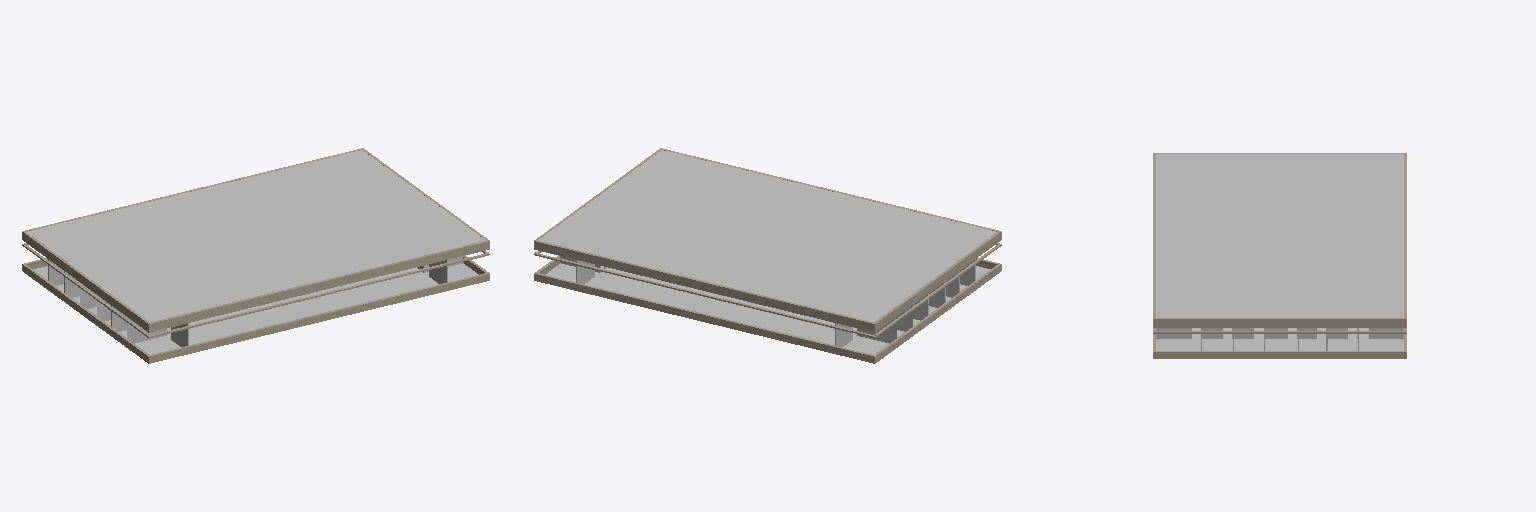
The model's file is Floor11ft.obj.
The picture shows the model from 3 angles: view 1: azimuth 30°, elevation 25°; view 2: azimuth 150°, elevation 25°; view 3: azimuth 270°, elevation 25°; orthographic projection.
Visible parts, largest first — view 1: FrontWall; view 2: FrontWall; view 3: FrontWall.
Part boxes in pixels (bbox=[...]): FrontWall: bbox=[22, 148, 489, 363]; FrontWall: bbox=[534, 148, 1001, 363]; FrontWall: bbox=[1153, 153, 1406, 358].
Bounding box in the file's own units: 38.73 × 4.3 × 24.94.